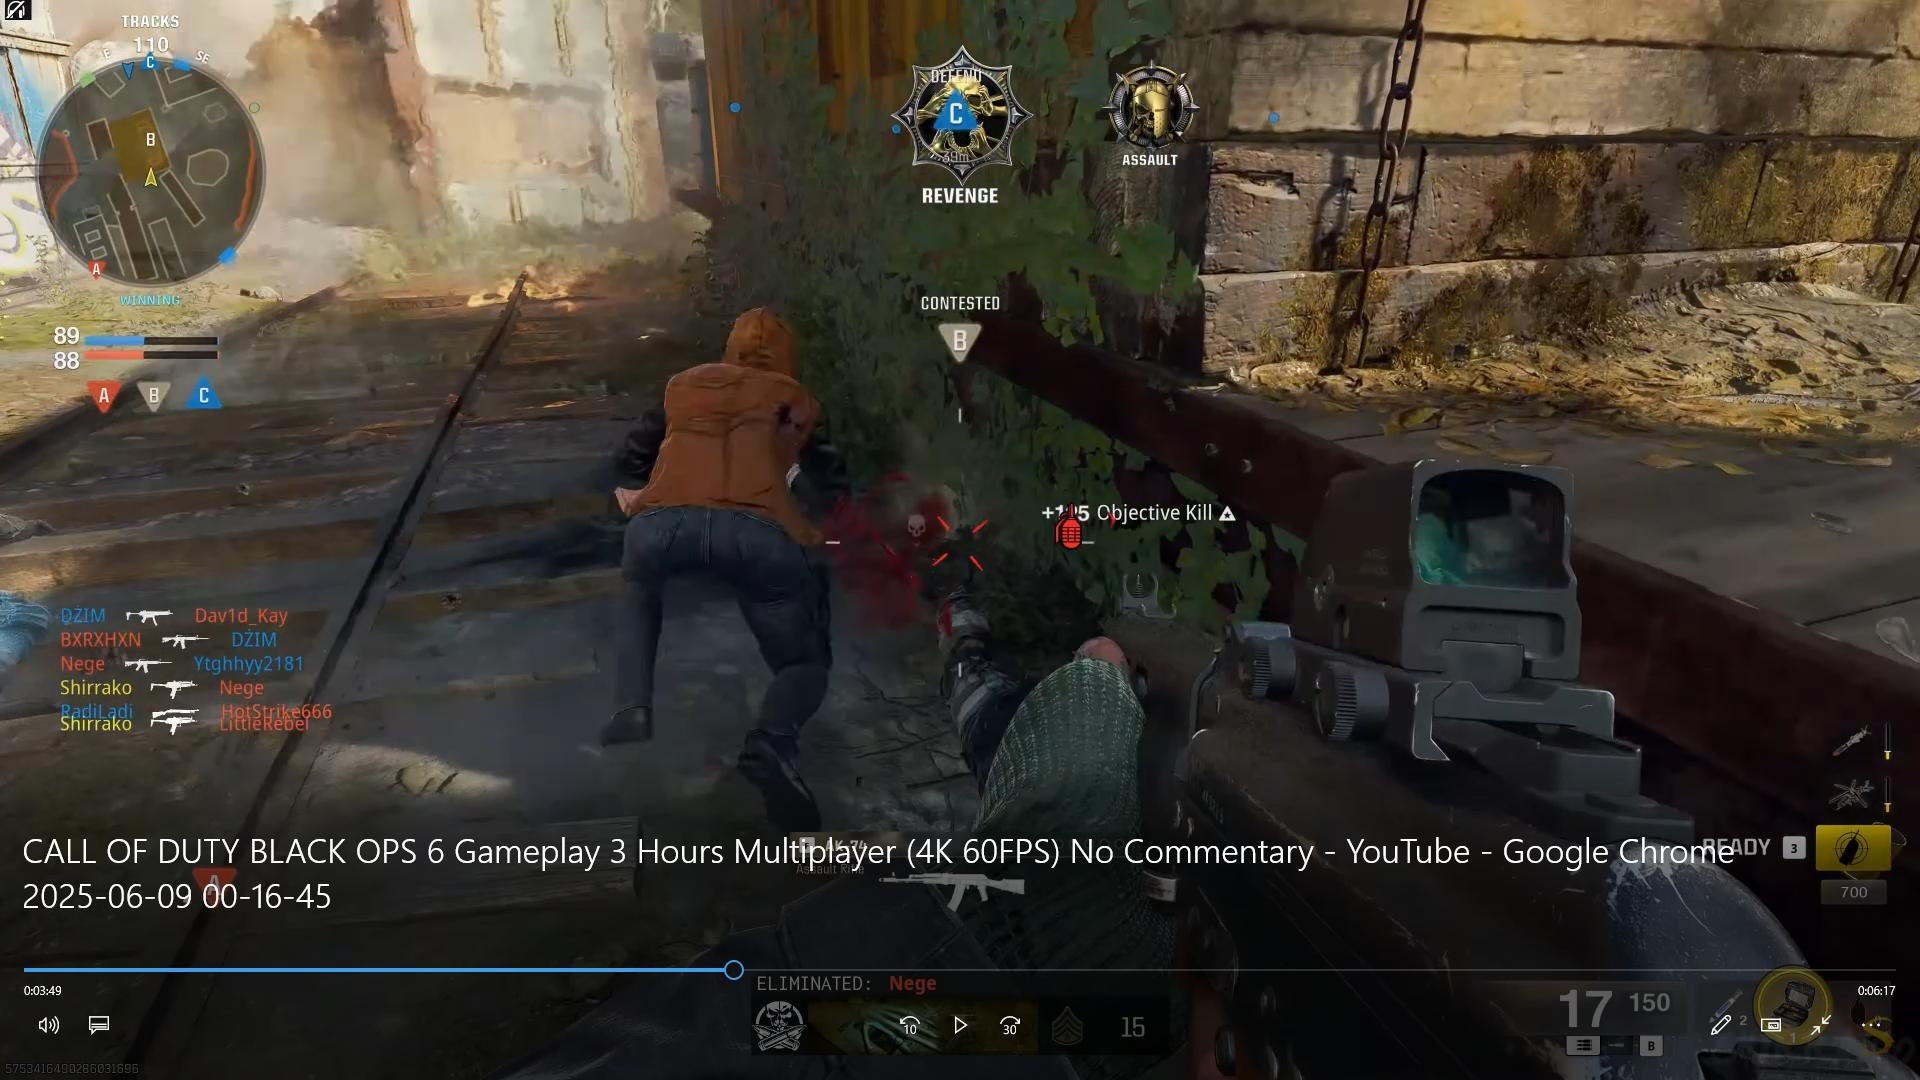Enemy: (592, 298, 861, 782)
